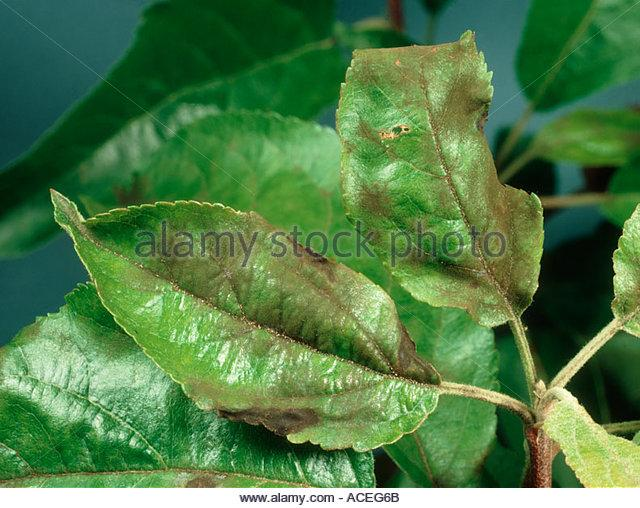Apple Scab Leaf: (49, 181, 460, 462), (343, 35, 554, 333)
